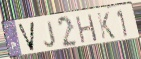1: (116, 8, 129, 39)
2: (57, 15, 80, 50)
H: (74, 12, 99, 45)
J: (43, 20, 57, 49)
K: (96, 12, 117, 41)
V: (16, 21, 36, 53)
